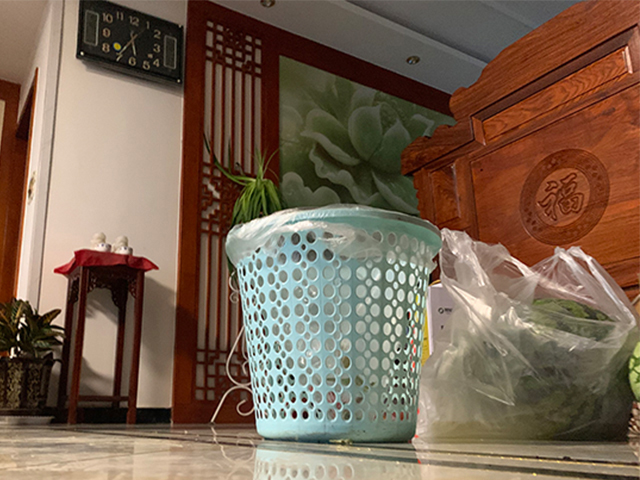trashcan: (225, 206, 442, 444)
